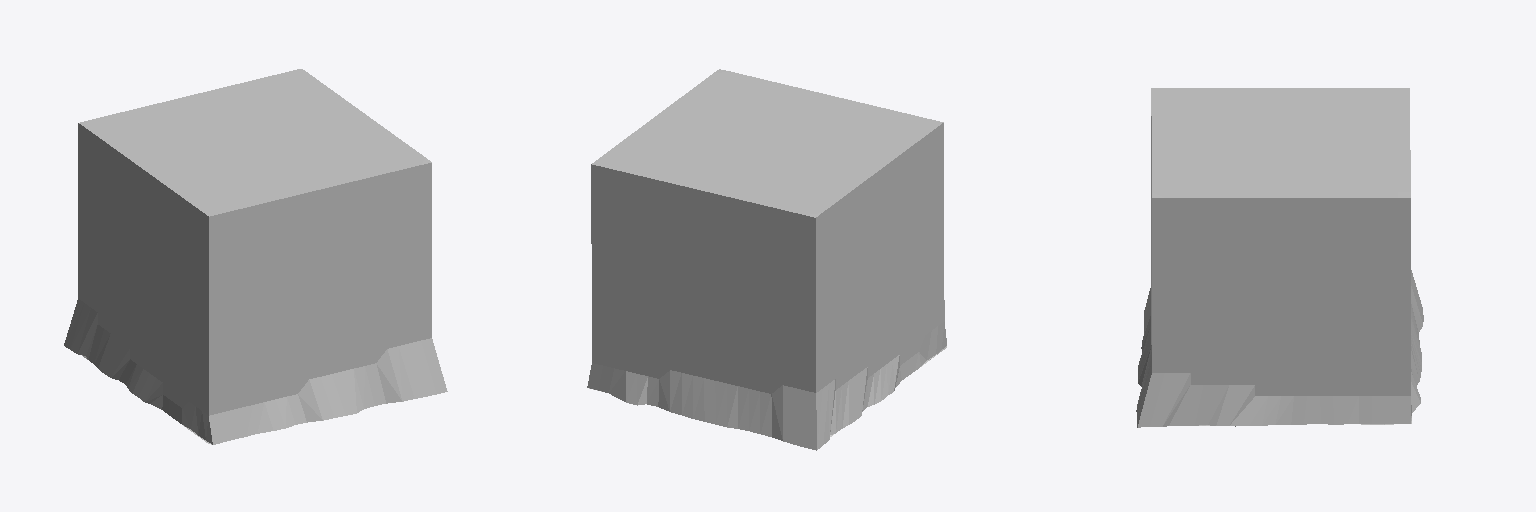
The model's file is mod0206.obj.
3 views of the same model, side by side, from view 1: azimuth 30°, elevation 25°; view 2: azimuth 150°, elevation 25°; view 3: azimuth 270°, elevation 25° (orthographic).
Visible parts, largest first — view 1: Box001; view 2: Box001; view 3: Box001.
Boxes of the visible parts, <box> form: Box001: <box>64,69,447,444</box>; Box001: <box>587,69,946,450</box>; Box001: <box>1136,88,1423,427</box>.
Size of the model in its own units: 0.5799 by 0.5222 by 0.5979.